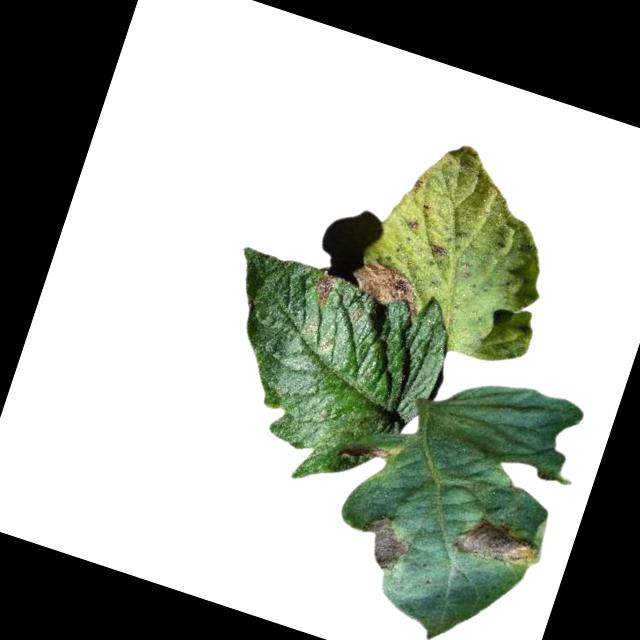Early_blight: (450, 506, 541, 577), (348, 255, 431, 318), (353, 507, 419, 575), (336, 435, 392, 474), (307, 270, 337, 307), (431, 242, 448, 256)
